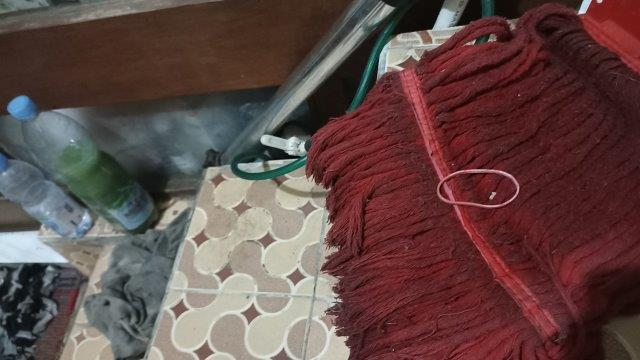karet: (436, 169, 519, 208)
